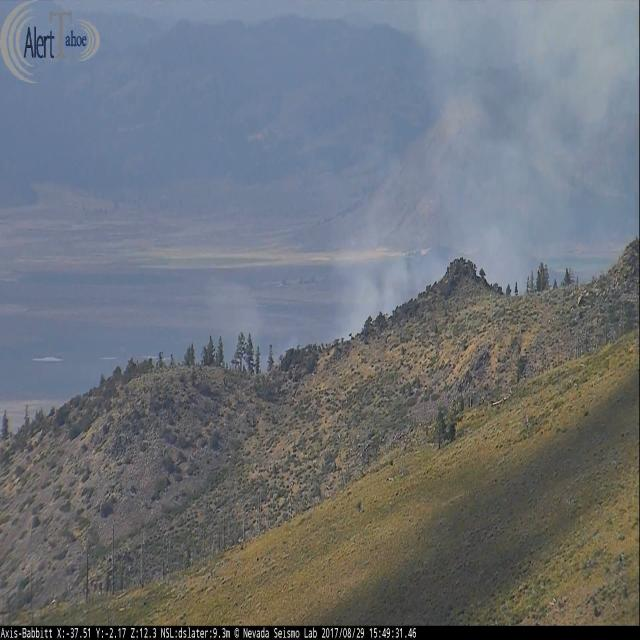smoke: (209, 0, 639, 378)
